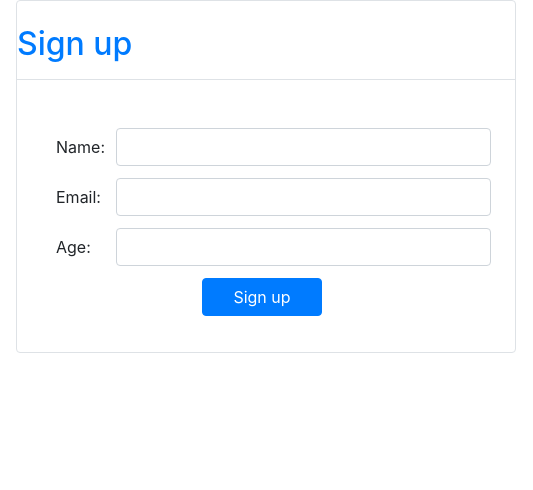
Scenario: Test form sign up › shows validation errors when form is submitted with empty
# Lấy phần tử button submit
Click the button "Sign up". click: (262, 297)
box: [202,278,322,316]
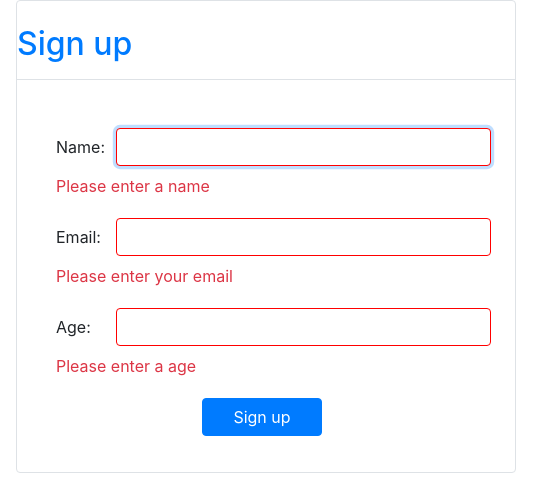
Expected: the text "Please enter a name" is shown, [56,176,210,196]
Expected: the text "Please enter your email" is shown, [56,266,233,286]
Expected: the text "Please enter a age" is shown, [56,356,196,376]
